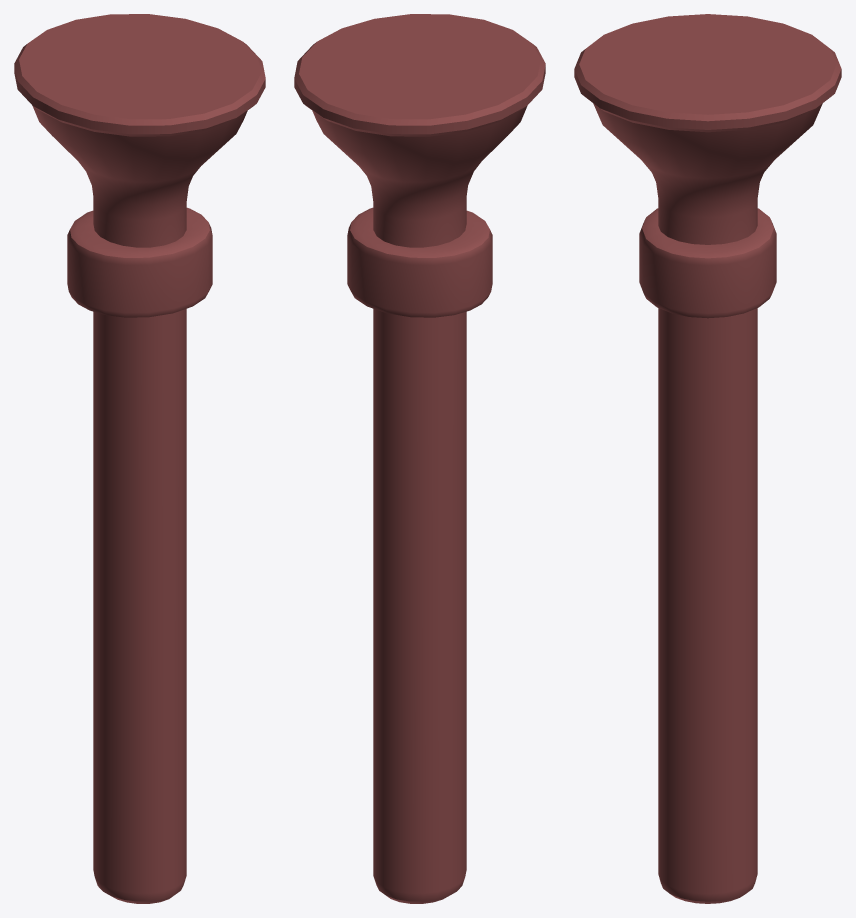
File: Torch.fbx
3 views of the same model, side by side, from view 1: azimuth 30°, elevation 25°; view 2: azimuth 150°, elevation 25°; view 3: azimuth 270°, elevation 25° (orthographic).
Visible parts, largest first — view 1: Torch; view 2: Torch; view 3: Torch.
Part boxes in pixels (left/top/right/bottom): Torch: left=14, top=14, right=265, bottom=903; Torch: left=294, top=14, right=545, bottom=903; Torch: left=574, top=14, right=841, bottom=903.
Bounding box in the file's own units: 0.7131 × 2.64 × 0.7672.
